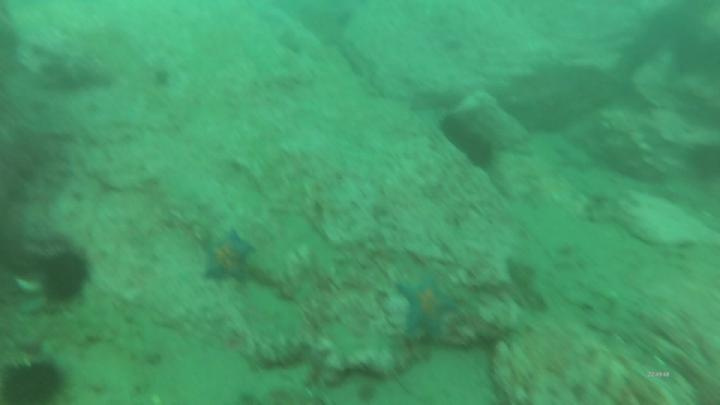echinus: (1, 356, 69, 405), (39, 247, 91, 306), (465, 135, 497, 170), (438, 112, 468, 145)
starfish: (394, 270, 460, 344), (199, 227, 258, 287)
